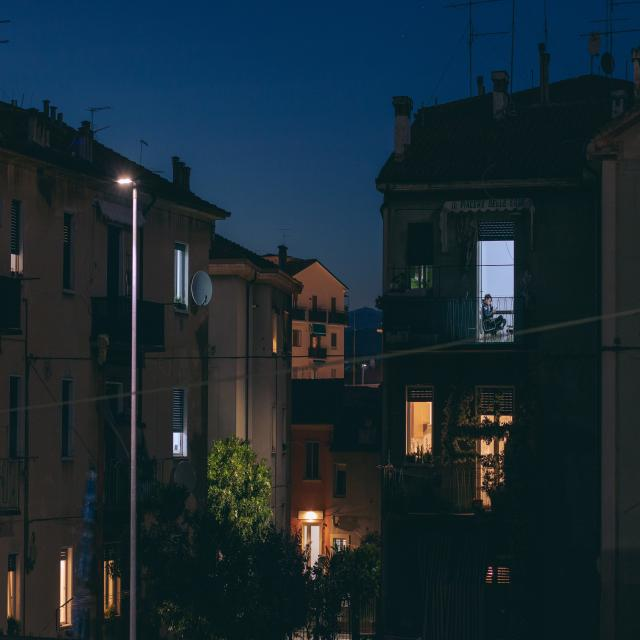Street Light: (114, 176, 138, 640), (360, 362, 368, 388)
